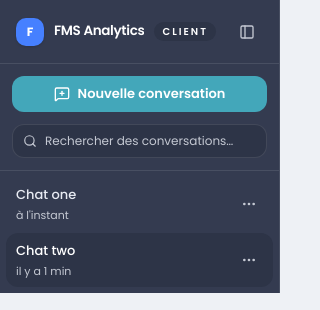
Test case: ConversationsSidebar › kebab click opens the menu with aria-expanded toggle
Click the 1st button named "Options de la conversation".
click(249, 204)  # box left=235, top=190, right=263, bottom=218
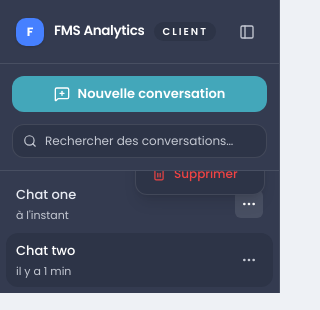
Check: the menu item "Supprimer" is shown, box left=142, top=171, right=258, bottom=188
